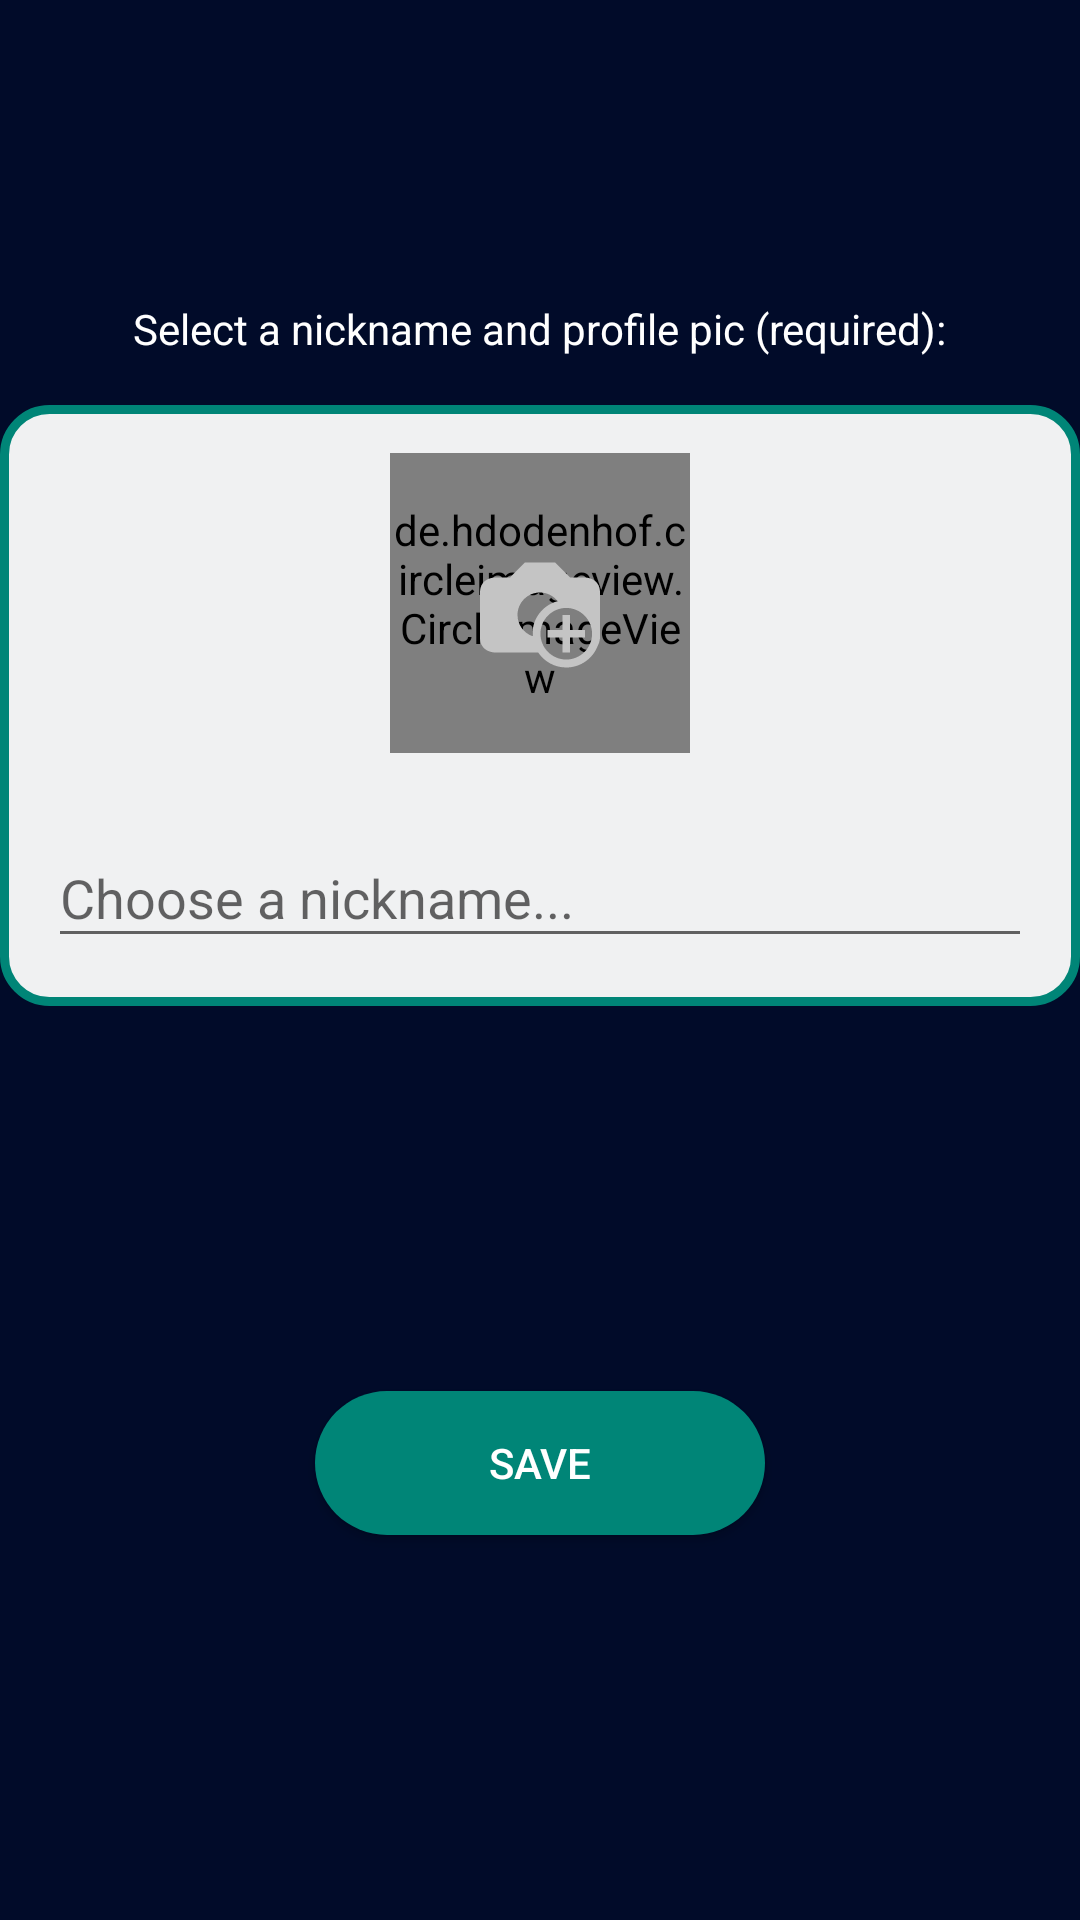

Named icons in this screenshot (1080 x 1920) and their centers, (x=x, y=y):
add: (x=540, y=618)
